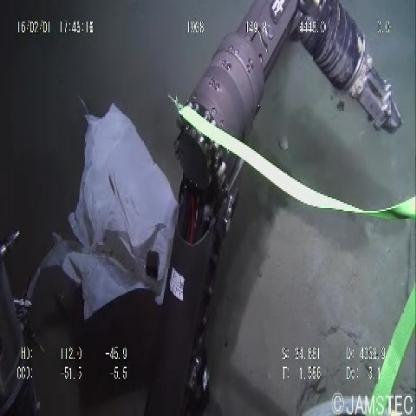Rov: (144, 1, 406, 414)
Rác: (49, 95, 182, 319)
